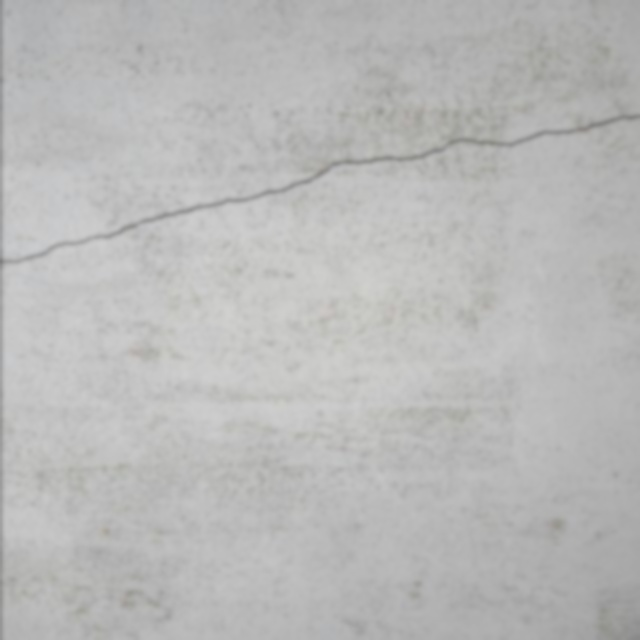SurfaceCrack: (0, 94, 639, 289)
